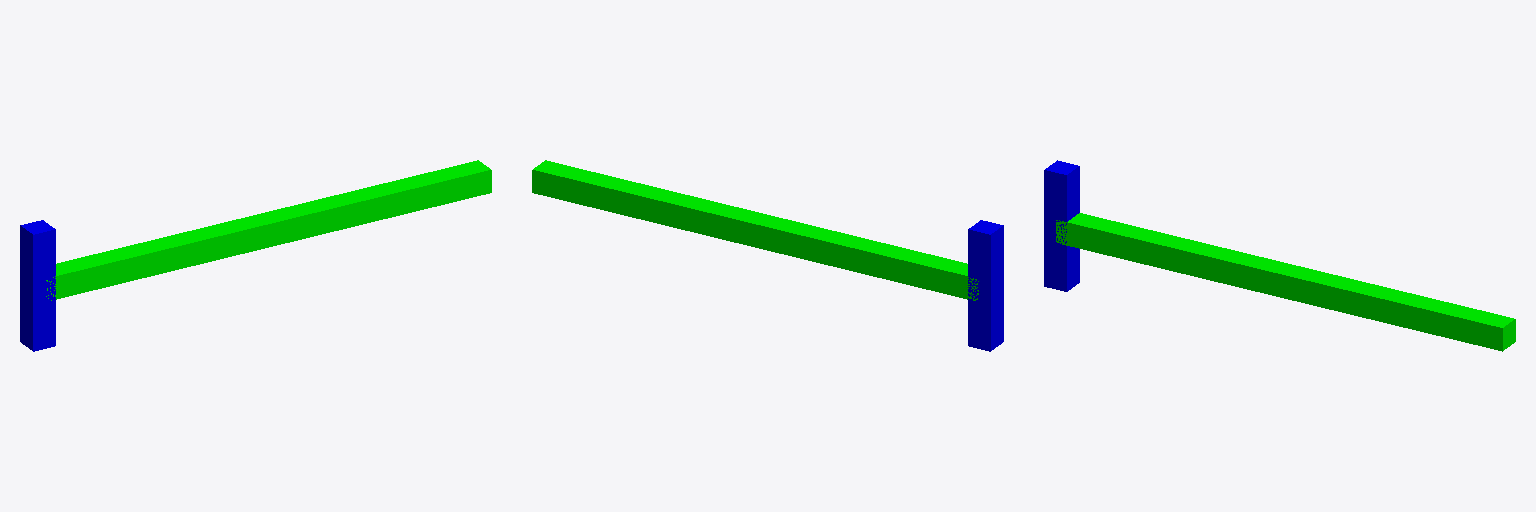
robot.urdf — urdf_example:
<?xml version="1.0"?>

<robot name="urdf_example">

  <link name="link1">
    <visual>
      <geometry>
        <box size= "0.1 0.1 0.5" />
      </geometry>
      <material name= "blue">
        <color rgba= "0 0 1 1"/>
      </material>
    </visual>
  </link>
  
  <link name="link2">
    <visual>
      <geometry>
        <box size= "0.1 0.1 2.0" />
      </geometry>
      <material name= "green">
        <color rgba= "0 1 0 1"/>
      </material>
    </visual>
  </link>
  
  <link name="link3"/>
  
  
  <joint name="joint1" type="revolute" >
    <parent link = "link1" />
    <child link = "link3" />
    <origin xyz = "0 0 0" rpy = "0 0 0" />
    <axis xyz= "0 1 0" />
    <limit effort="1000" velocity="3.0" />
  </joint>
  
  <joint name="joint2" type="revolute" >
    <parent link = "link3" />
    <child link = "link2" />
    <origin xyz = "1 0 0" rpy = "0 1.57 0" />
    <axis xyz= "0 0 1" />
    <limit effort="1000" velocity="3.0" />
  </joint>
  
</robot>

--- Render facts (derived) ---
Views: 3 orthographic renders of the robot side by side, from view 1: azimuth 30°, elevation 25°; view 2: azimuth 150°, elevation 25°; view 3: azimuth 330°, elevation 25°.
Robot: urdf_example — 3 links, 2 joints (2 revolute); root link link1; default pose: every joint at zero.
Links seen in each view (by area): view 1: link2, link1; view 2: link2, link1; view 3: link2, link1.
Boxes of the visible links, bbox=[...] form: link2: bbox=[46, 160, 491, 300]; link1: bbox=[20, 220, 55, 351]; link2: bbox=[532, 160, 978, 300]; link1: bbox=[968, 220, 1003, 351]; link2: bbox=[1056, 213, 1515, 351]; link1: bbox=[1044, 160, 1079, 291].
Size in the robot's own frame: 2.05 by 0.1 by 0.5 metres.
Geometry: primitives only (box / cylinder / sphere), no mesh files.